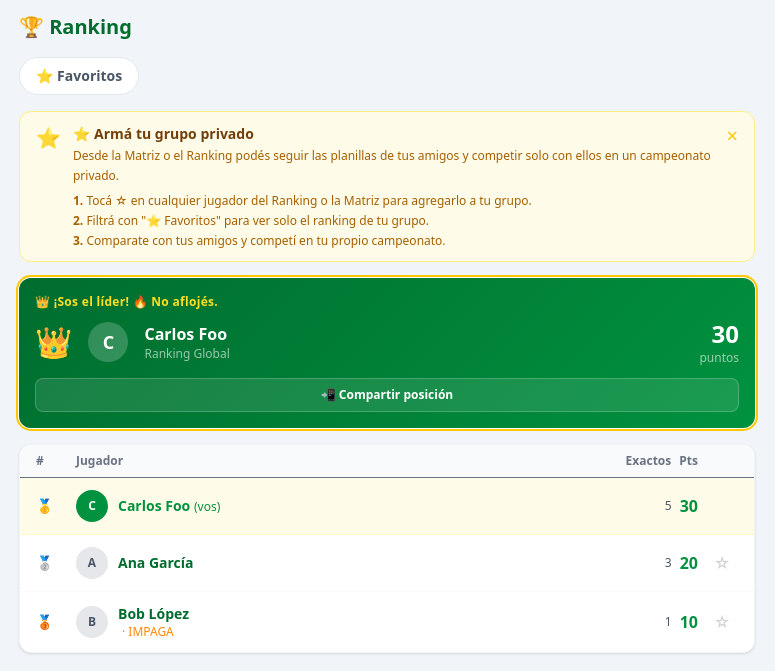
Scenario: Ranking — filtro favoritos › banner de favoritos se cierra con ×
The width and height of the screenshot is (775, 671).
Expected: the text "⭐ Armá tu grupo privado" is shown, [73,124,254,143]
Click the button named "Cerrar". click: click(732, 136)
box: [726,126,738,146]
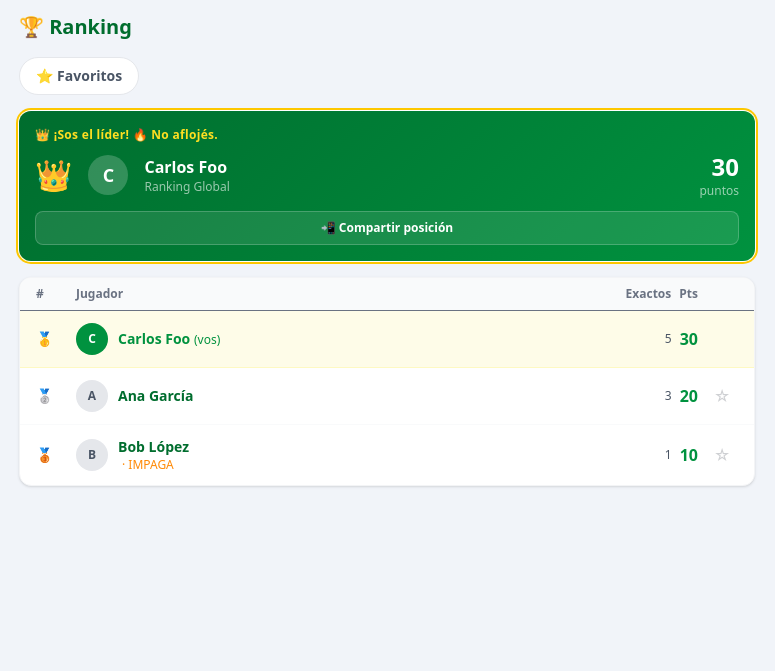
Expected: the text "Armá tu grupo privado" is gone
